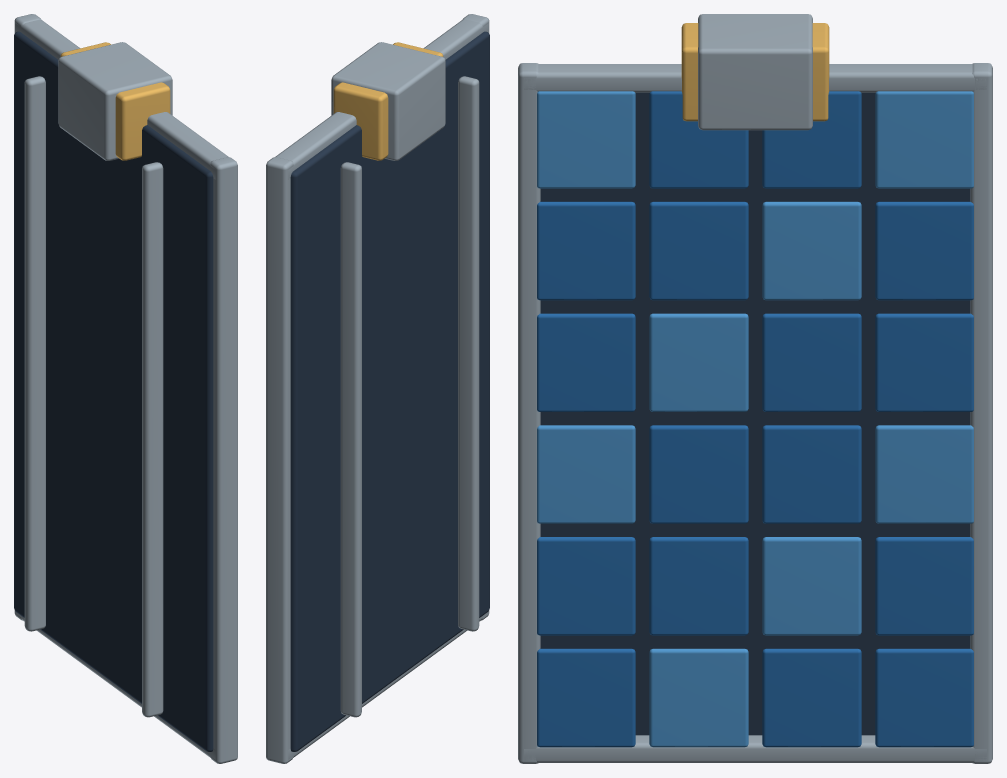
File: solar_deployable_single.glb
The picture shows the model from 3 angles, left to right: view 1: azimuth 30°, elevation 25°; view 2: azimuth 150°, elevation 25°; view 3: azimuth 270°, elevation 25°; orthographic projection. The views are drawn at different scales.
Visible parts, largest first — view 1: Single_Wing_Backing, Single_Wing_Frame_Rail, Single_Wing_Support_001, Single_Wing_Support, Single_Hinge_Mount, Single_Gold_Hinge, Single_Wing_End_Frame, Single_Wing_End_Frame_001; view 2: Single_Wing_Backing, Single_Wing_Frame_Rail_001, Single_Wing_Support, Single_Wing_Support_001, Single_Hinge_Mount, Single_Gold_Hinge, Single_Wing_End_Frame, Single_Wing_End_Frame_001; view 3: Single_Wing_Backing, Single_Wing_Frame_Rail_001, Single_Wing_Frame_Rail, Single_Hinge_Mount, Single_Wing_Cell_1_1, Single_Wing_Cell_1_2, Single_Wing_Cell_5_1, Single_Wing_Cell_5_2, Single_Wing_Cell_3_1, Single_Wing_Cell_3_2, Single_Wing_Cell_2_1, Single_Wing_Cell_2_2 (+19 smaller).
Part boxes in pixels (box(x1,y1,x2,y2)): Single_Wing_Backing: box(14, 31, 213, 751); Single_Wing_Frame_Rail: box(210, 157, 237, 763); Single_Wing_Support_001: box(24, 76, 45, 631); Single_Wing_Support: box(142, 162, 163, 717); Single_Hinge_Mount: box(58, 42, 172, 160); Single_Gold_Hinge: box(60, 42, 170, 160); Single_Wing_End_Frame: box(15, 19, 228, 179); Single_Wing_End_Frame_001: box(15, 611, 215, 759); Single_Wing_Backing: box(290, 31, 489, 751); Single_Wing_Frame_Rail_001: box(266, 157, 293, 763); Single_Wing_Support: box(458, 76, 479, 631); Single_Wing_Support_001: box(340, 162, 361, 717); Single_Hinge_Mount: box(331, 42, 445, 160); Single_Gold_Hinge: box(333, 42, 443, 160); Single_Wing_End_Frame: box(275, 19, 488, 179); Single_Wing_End_Frame_001: box(288, 611, 488, 759); Single_Wing_Backing: box(540, 92, 970, 735); Single_Wing_Frame_Rail_001: box(970, 63, 992, 763); Single_Wing_Frame_Rail: box(518, 63, 540, 763); Single_Hinge_Mount: box(698, 14, 812, 130); Single_Wing_Cell_1_1: box(649, 201, 748, 300); Single_Wing_Cell_1_2: box(762, 201, 861, 300); Single_Wing_Cell_5_1: box(649, 648, 748, 747); Single_Wing_Cell_5_2: box(762, 648, 861, 747); Single_Wing_Cell_3_1: box(649, 425, 748, 523); Single_Wing_Cell_3_2: box(762, 425, 861, 523); Single_Wing_Cell_2_1: box(649, 313, 748, 411); Single_Wing_Cell_2_2: box(762, 313, 861, 411).
Size of the model in its own units: 0.22 by 1.94 by 1.16.
